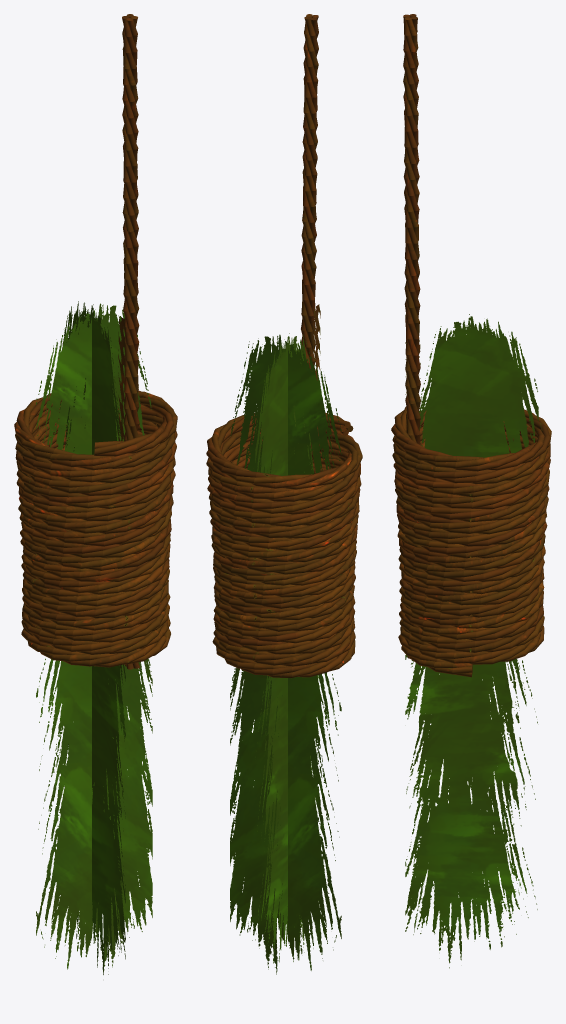
File: House_HangingHerb_v01.fbx
The picture shows the model from 3 angles, left to right: view 1: azimuth 30°, elevation 25°; view 2: azimuth 150°, elevation 25°; view 3: azimuth 270°, elevation 25°; orthographic projection. The views are drawn at different scales.
Visible parts, largest first — view 1: Herb_Rope_Wrap, Herb_Plane_Side, Herb_Plane_Front, Herb_Rope_Hang; view 2: Herb_Rope_Wrap, Herb_Plane_Side, Herb_Plane_Front, Herb_Rope_Hang; view 3: Herb_Plane_Front, Herb_Rope_Wrap, Herb_Rope_Hang.
Boxes of the visible parts, x1,y1,x2,y2 form: Herb_Rope_Wrap: (14, 390, 177, 667); Herb_Plane_Side: (36, 303, 152, 970); Herb_Plane_Front: (59, 301, 125, 974); Herb_Rope_Hang: (122, 14, 139, 669); Herb_Rope_Wrap: (206, 412, 362, 678); Herb_Plane_Side: (230, 334, 341, 974); Herb_Plane_Front: (255, 304, 320, 963); Herb_Rope_Hang: (301, 14, 318, 471); Herb_Plane_Front: (405, 314, 538, 968); Herb_Rope_Wrap: (391, 406, 551, 677); Herb_Rope_Hang: (403, 14, 420, 658).
Bounding box in the file's own units: 9.23 × 9.25 × 61.39.
1 material, 1 textured.
